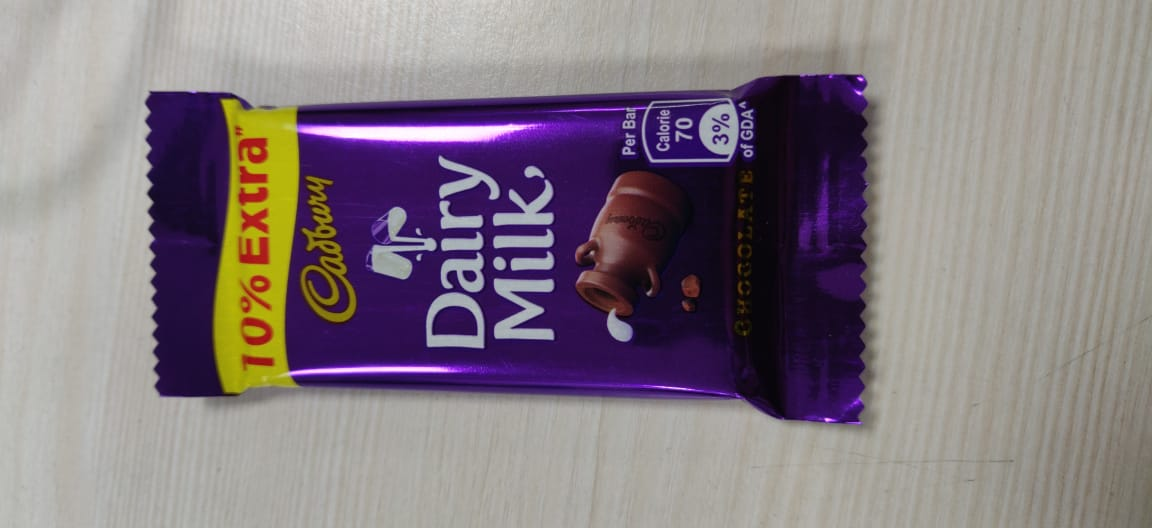dairy milk: (131, 67, 892, 436)
